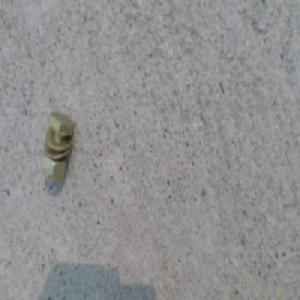BoltNutSet: (46, 108, 78, 180)
